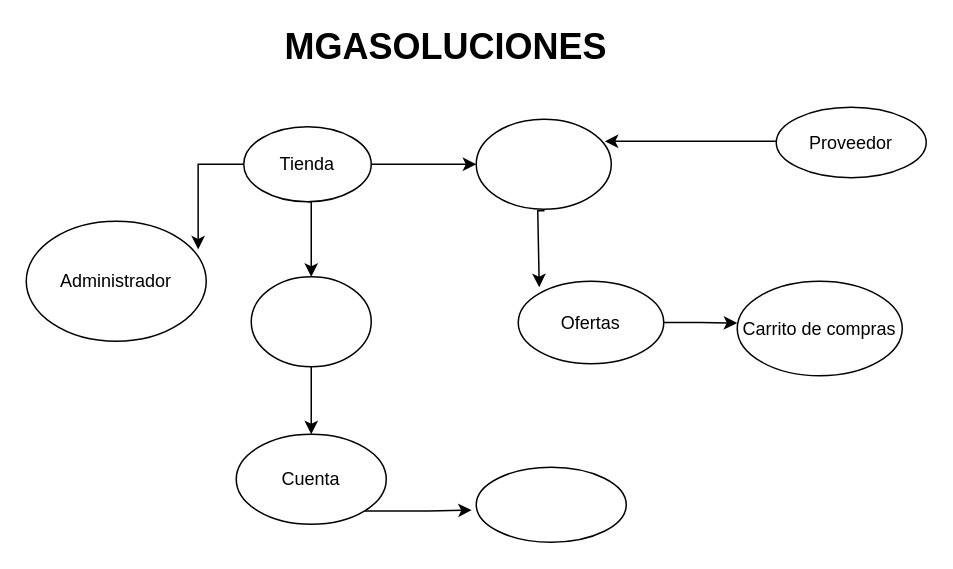
The diagram is 953 pixels wide and 569 high, and some of its shapes have lost their labels. Each missing label, with the centre of its shape:
Banco: pixel 550 504
Cliente: pixel 310 321
Productos: pixel 543 163
